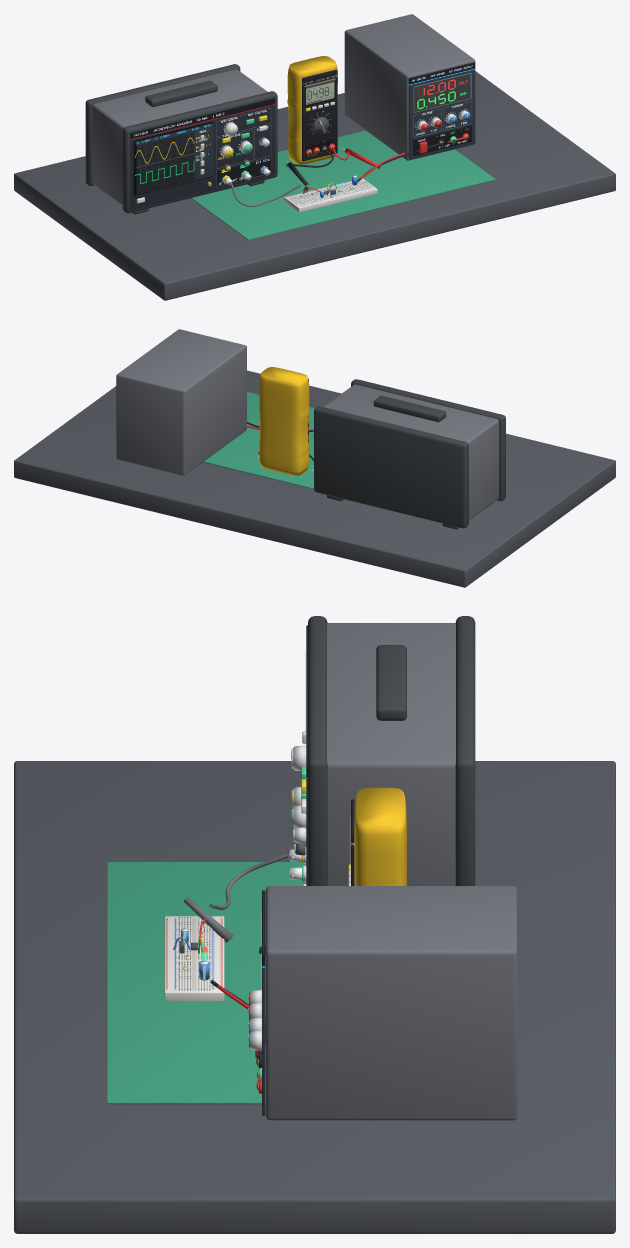
Rendered from utt-workbench.glb.
3 views of the same model, one above another, from view 1: azimuth 30°, elevation 25°; view 2: azimuth 150°, elevation 25°; view 3: azimuth 270°, elevation 25° (orthographic). The views are drawn at different scales.
Visible parts, largest first — view 1: K001_Lab_Workbench_Top, K011_ESD_AntiStatic_Mat, B001_Scope_Silkscreen_Faceplate, C001_PSU_Chassis, B001_Scope_MainBody, C001_PSU_Silkscreen_Faceplate, A001_DMM_Silkscreen_Faceplate, B001_Scope_FrontBumper, A001_DMM_Holster, B001_Scope_RearBumper, D001_Breadboard_Body, C001_PSU_Display_Glass (+3 smaller); view 2: K001_Lab_Workbench_Top, C001_PSU_Chassis, B001_Scope_RearBumper, B001_Scope_MainBody, A001_DMM_Holster, K011_ESD_AntiStatic_Mat, B001_Scope_FrontBumper, B001_Scope_TopHandle; view 3: K001_Lab_Workbench_Top, C001_PSU_Chassis, K011_ESD_AntiStatic_Mat, B001_Scope_MainBody, B001_Scope_RearBumper, B001_Scope_FrontBumper, A001_DMM_Holster, D001_Breadboard_Body, B001_Scope_TopHandle, C001_PSU_Silkscreen_Faceplate.
Part boxes in pixels (x1,y1,x2,y2): K001_Lab_Workbench_Top: (14,71,615,300); K011_ESD_AntiStatic_Mat: (191,130,495,240); B001_Scope_Silkscreen_Faceplate: (130,98,275,210); C001_PSU_Chassis: (344,14,475,160); B001_Scope_MainBody: (92,69,267,205); C001_PSU_Silkscreen_Faceplate: (408,62,475,159); A001_DMM_Silkscreen_Faceplate: (302,69,337,161); B001_Scope_FrontBumper: (122,91,277,213); A001_DMM_Holster: (287,56,338,164); B001_Scope_RearBumper: (85,64,240,185); D001_Breadboard_Body: (284,178,377,212); C001_PSU_Display_Glass: (414,73,470,111); K001_Lab_Workbench_Top: (14,370,615,587); C001_PSU_Chassis: (116,329,246,475); B001_Scope_RearBumper: (314,406,468,528); B001_Scope_MainBody: (323,384,498,520); A001_DMM_Holster: (258,367,309,475); K011_ESD_AntiStatic_Mat: (203,392,314,489); B001_Scope_FrontBumper: (351,379,505,501); B001_Scope_TopHandle: (373,395,446,422); K001_Lab_Workbench_Top: (14,761,615,1233); C001_PSU_Chassis: (265,886,517,1120); K011_ESD_AntiStatic_Mat: (107,862,306,1104); B001_Scope_MainBody: (327,623,455,885); B001_Scope_RearBumper: (455,616,475,885); B001_Scope_FrontBumper: (308,616,327,885); A001_DMM_Holster: (354,787,406,885); D001_Breadboard_Body: (164,916,224,1001); B001_Scope_TopHandle: (376,645,406,720); C001_PSU_Silkscreen_Faceplate: (262,890,265,1115).
Bounding box in the file's own units: 0.95 × 0.23 × 0.55.
39 materials, 4 textured.
